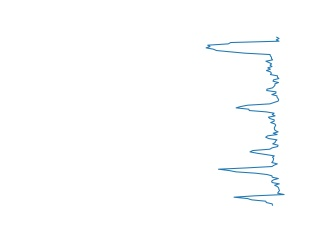distalBar: (203, 33, 283, 89)
interdistributaryEstuary: (233, 89, 283, 144)
underwaterNaturalLevee: (215, 145, 287, 209)
